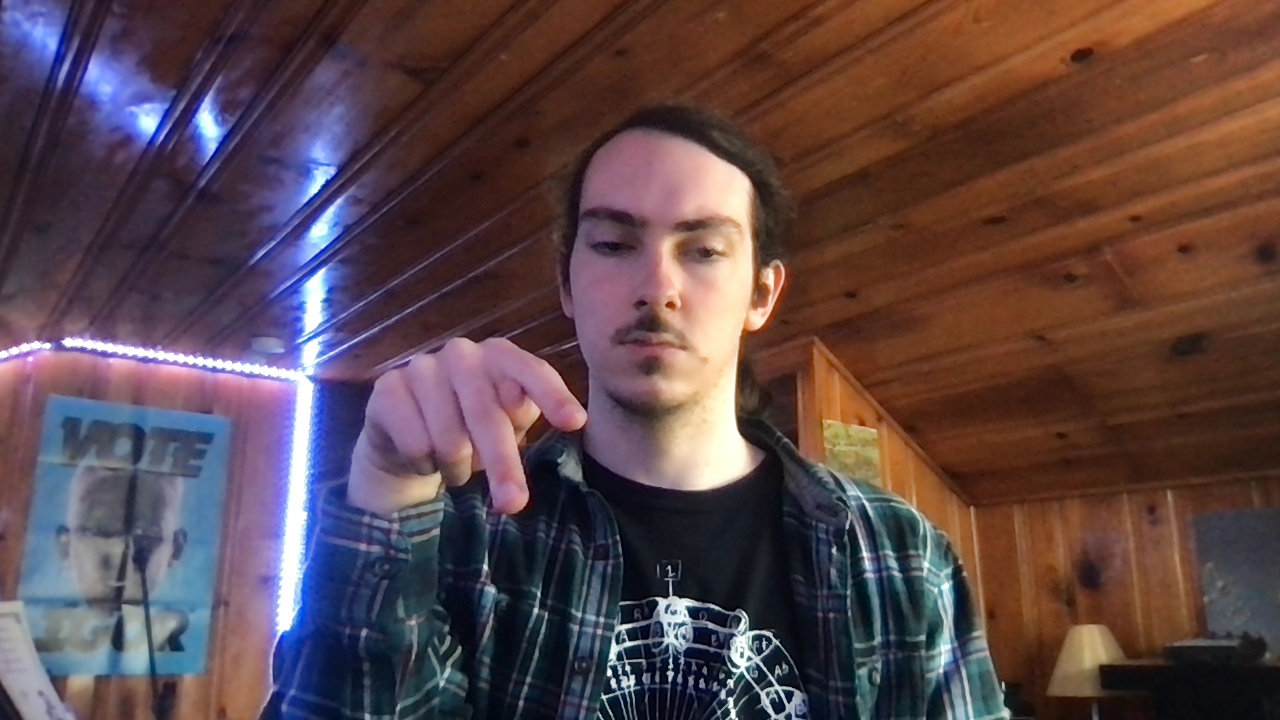p: (364, 335, 592, 519)
